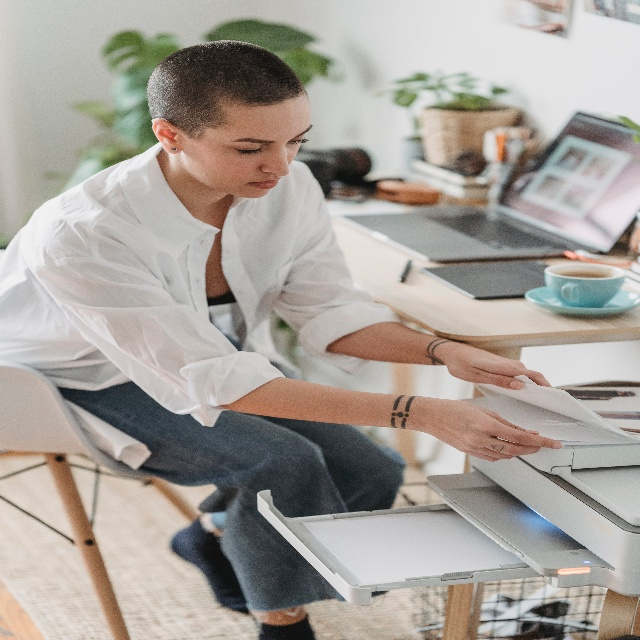Sin_guantes: (432, 398, 564, 461), (442, 340, 552, 390)
